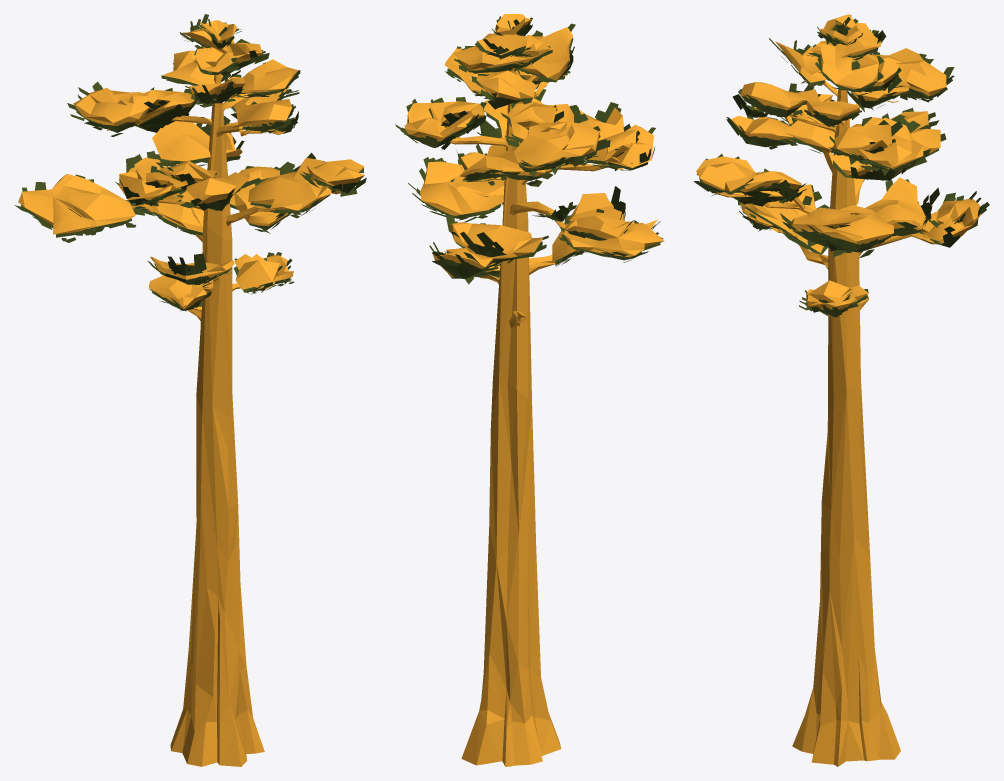
Rendered from SM_Tree_Sequoia_Mature_A_Snow.fbx.
3 renders of one model, left to right at view 1: azimuth 30°, elevation 25°; view 2: azimuth 150°, elevation 25°; view 3: azimuth 270°, elevation 25°, orthographic.
Visible parts, largest first — view 1: tree-sequoia-mature-a-snow; view 2: tree-sequoia-mature-a-snow; view 3: tree-sequoia-mature-a-snow.
Part boxes in pixels (x1,y1,x2,y2): tree-sequoia-mature-a-snow: (14,14,366,766); tree-sequoia-mature-a-snow: (395,14,664,766); tree-sequoia-mature-a-snow: (693,14,989,766).
Size of the model in its own units: 9.08 by 24.08 by 8.9.
